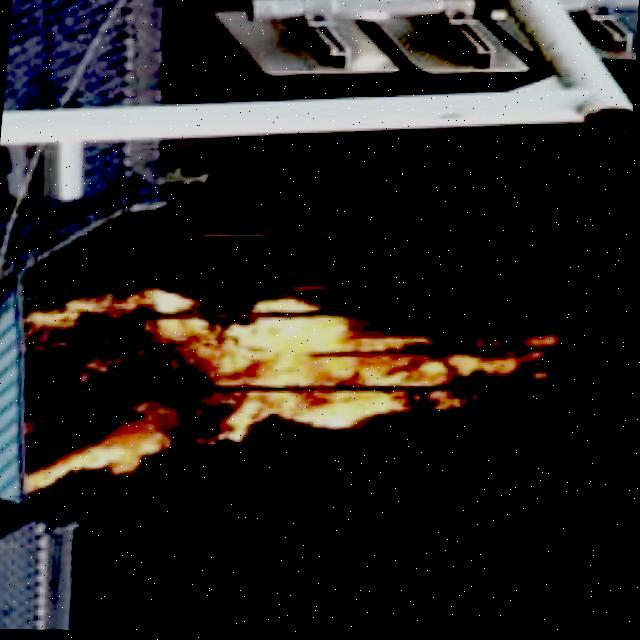Fire: (29, 277, 523, 505)
